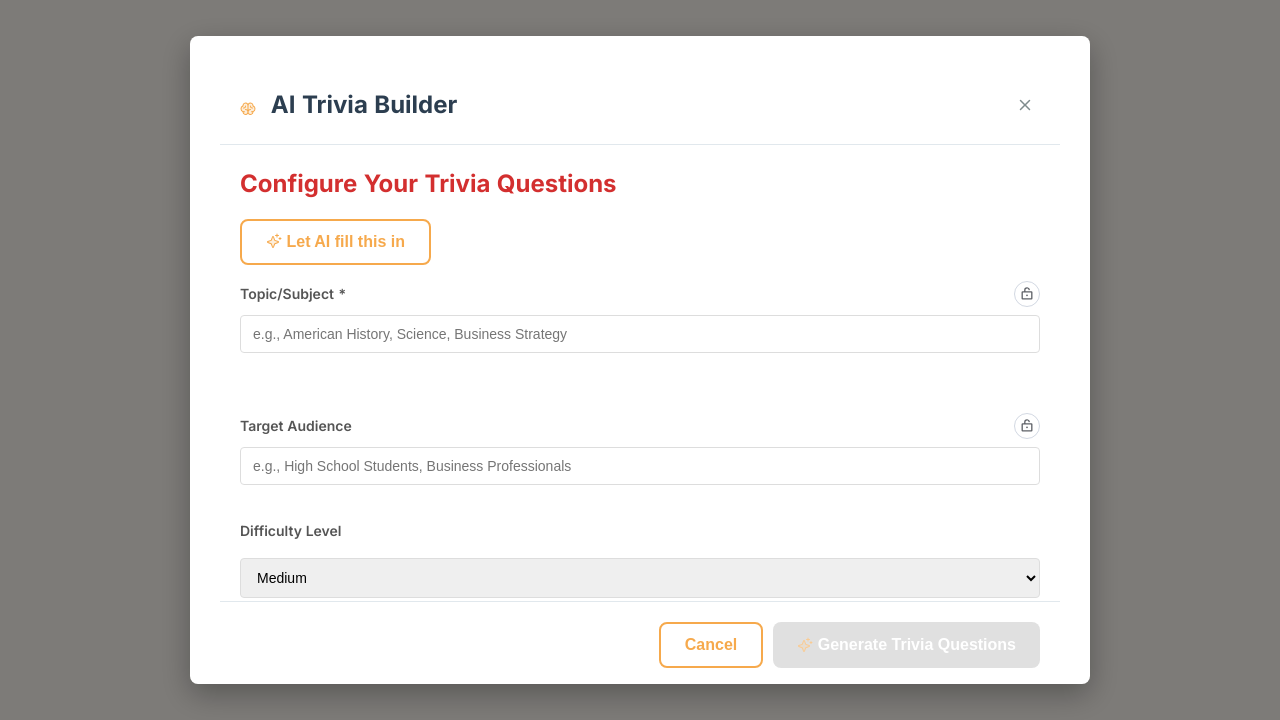
Test: starting a job, and finishing with it › an excluded question is not handed to the importer
Later steps or results of the test are not shown.
Type "Topic" into the field with placeholder "e.g., American History, Science, Business Strategy" at coordinates (640, 334), box x1=240 y1=315 x2=1040 y2=353
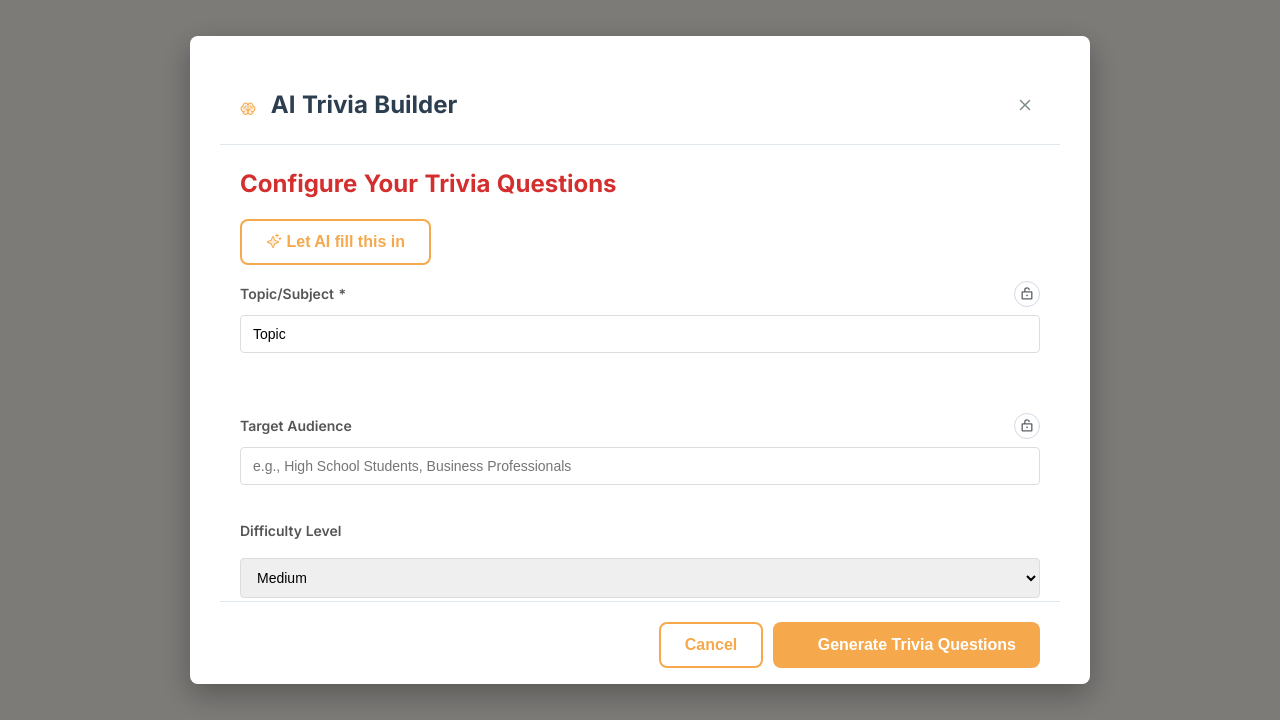
Click the button "Generate Trivia Questions" at coordinates (907, 645), box x1=773 y1=622 x2=1040 y2=668
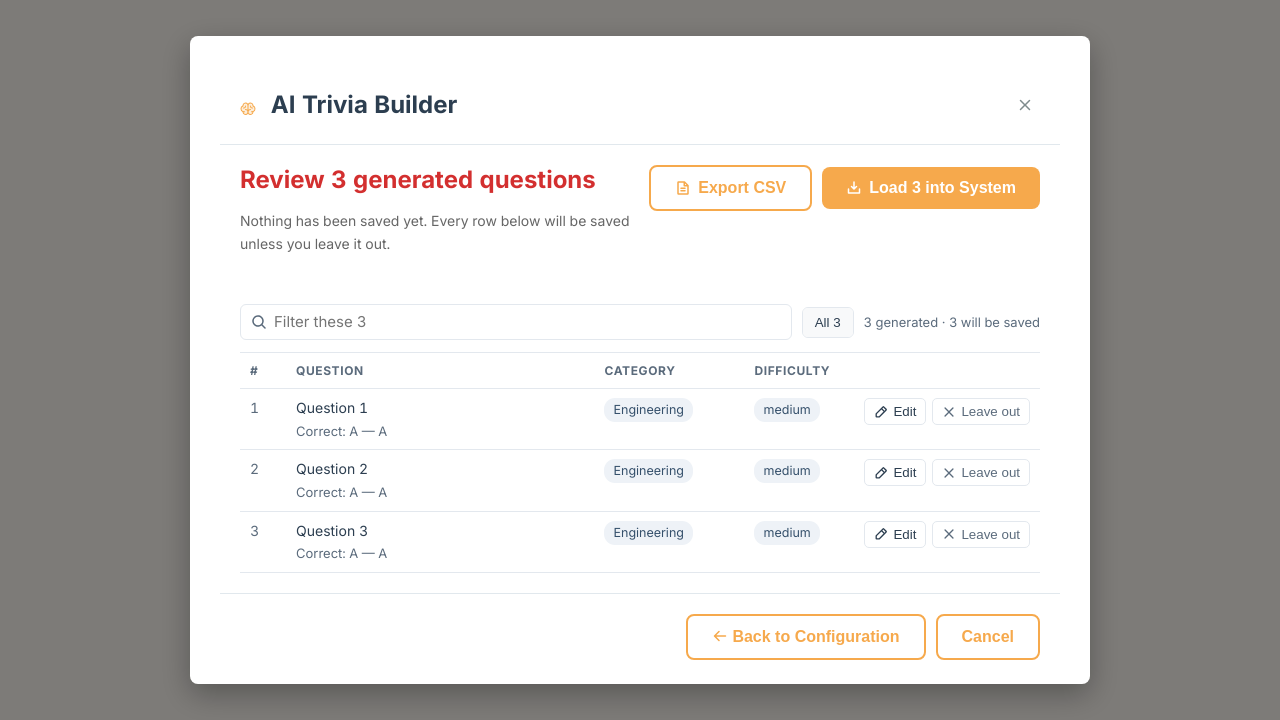
Expected: the table is shown, x1=240 y1=353 x2=1040 y2=573
